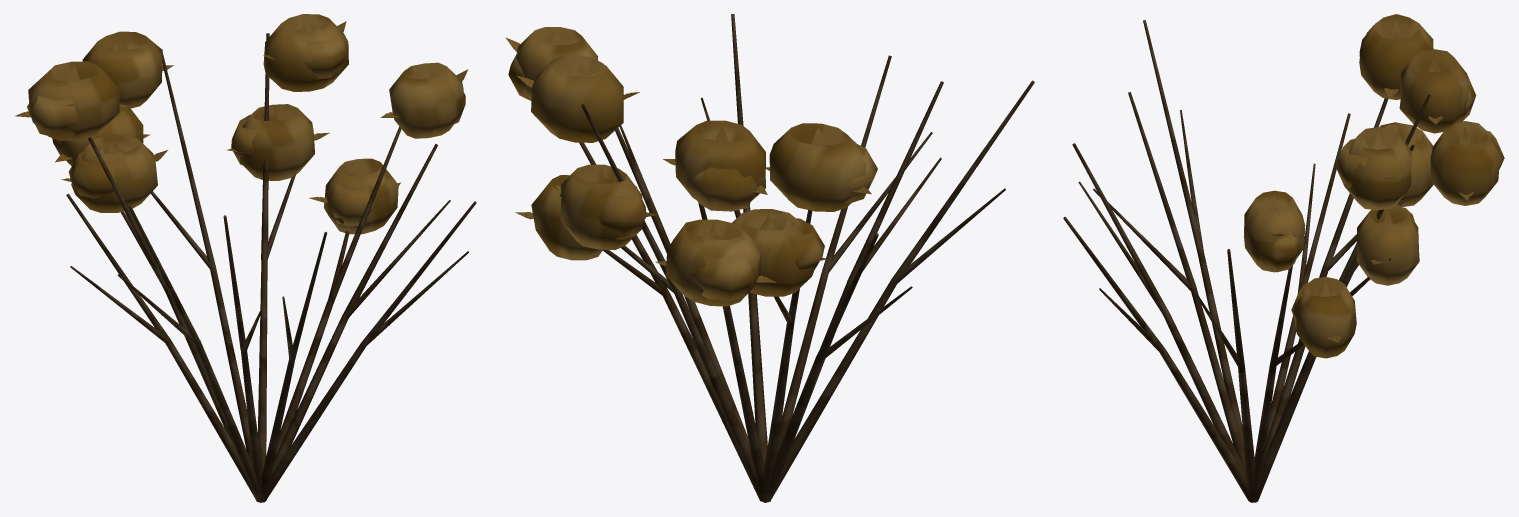
File: brush_dry01-lod0.glb
3 views of the same model, side by side, from view 1: azimuth 30°, elevation 25°; view 2: azimuth 150°, elevation 25°; view 3: azimuth 270°, elevation 25° (orthographic). The views are drawn at different scales.
Parts seen in each view (by area): view 1: TZ_filbert_shrub_Batch_00_LOD0, TZ_filbert_shrub_Batch_02_LOD0, TZ_filbert_shrub_Batch_01_LOD0; view 2: TZ_filbert_shrub_Batch_00_LOD0, TZ_filbert_shrub_Batch_02_LOD0, TZ_filbert_shrub_Batch_01_LOD0; view 3: TZ_filbert_shrub_Batch_00_LOD0, TZ_filbert_shrub_Batch_02_LOD0.
Part boxes in pixels (bbox=[...]): TZ_filbert_shrub_Batch_00_LOD0: bbox=[27, 14, 465, 234]; TZ_filbert_shrub_Batch_02_LOD0: bbox=[66, 33, 476, 502]; TZ_filbert_shrub_Batch_01_LOD0: bbox=[15, 21, 468, 202]; TZ_filbert_shrub_Batch_00_LOD0: bbox=[508, 27, 877, 306]; TZ_filbert_shrub_Batch_02_LOD0: bbox=[560, 14, 1034, 502]; TZ_filbert_shrub_Batch_01_LOD0: bbox=[505, 37, 871, 282]; TZ_filbert_shrub_Batch_00_LOD0: bbox=[1244, 14, 1504, 358]; TZ_filbert_shrub_Batch_02_LOD0: bbox=[1063, 20, 1430, 502].
Bounding box in the file's own units: 1.7 × 1.65 × 1.56.
Materials: 3 (3 with a texture image).
